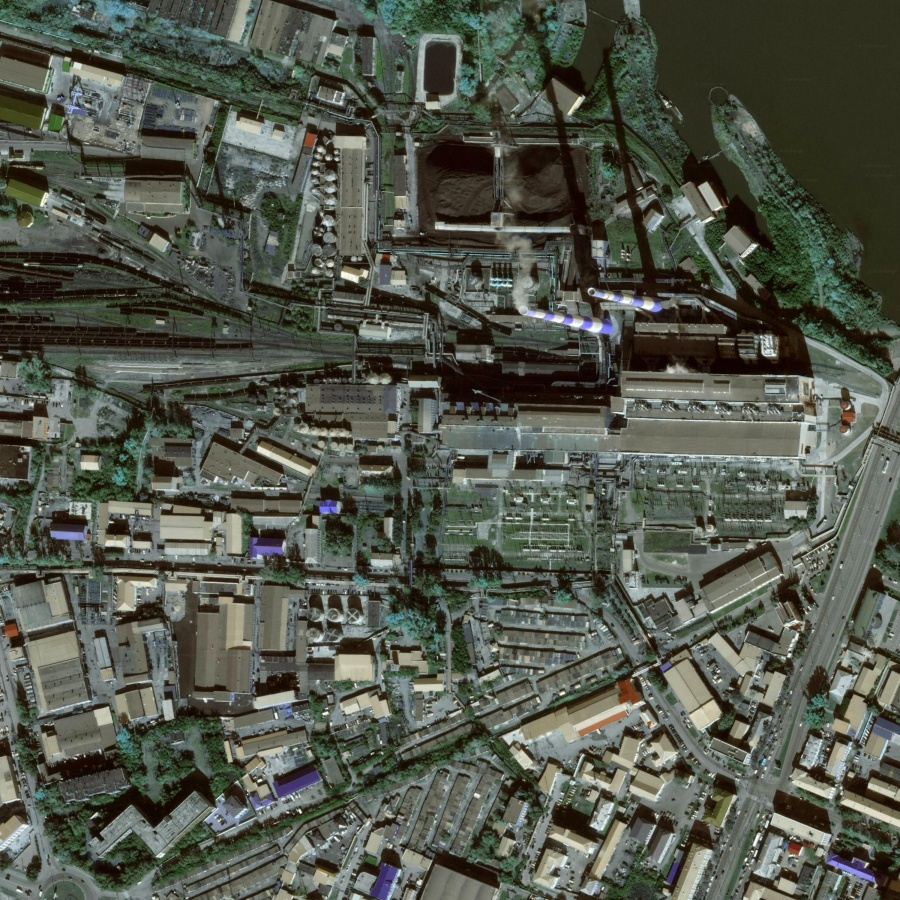PowerPlant: (397, 108, 801, 452)
